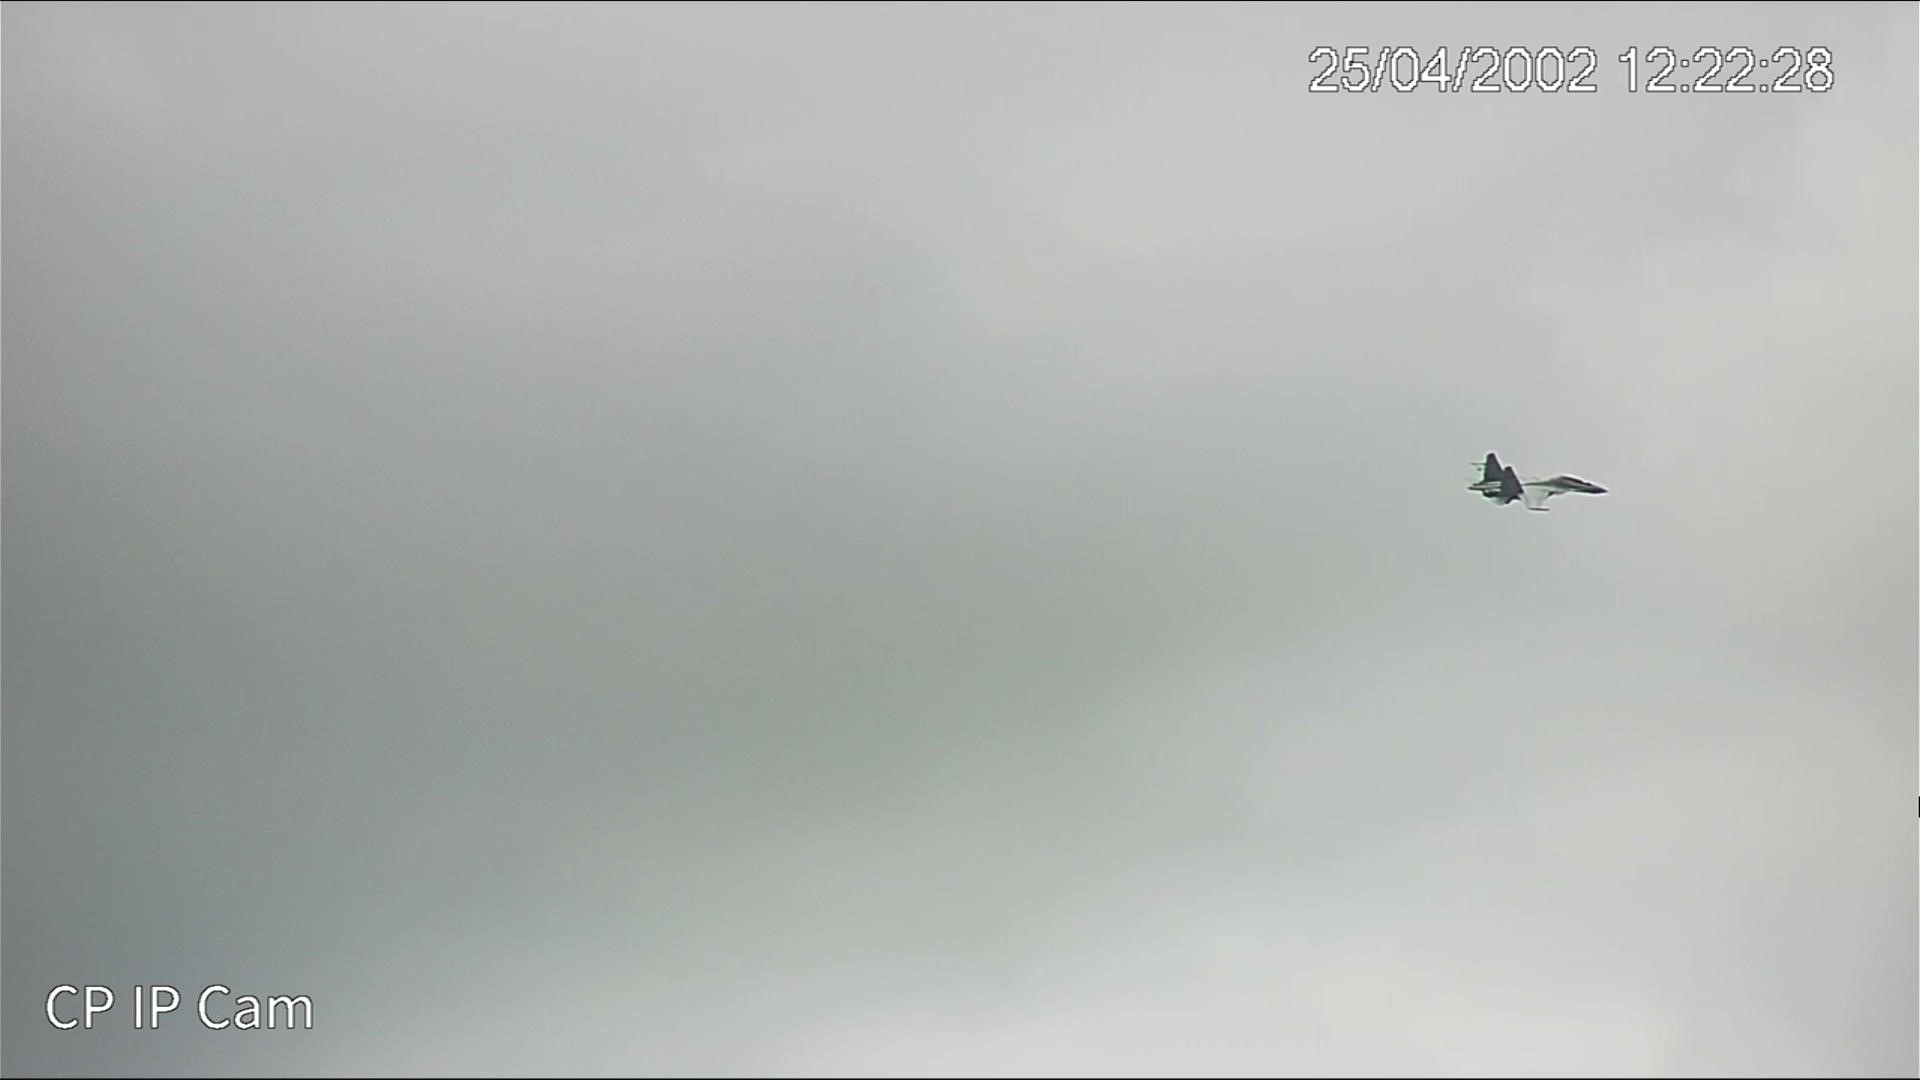SU_30: (1461, 450, 1609, 516)
